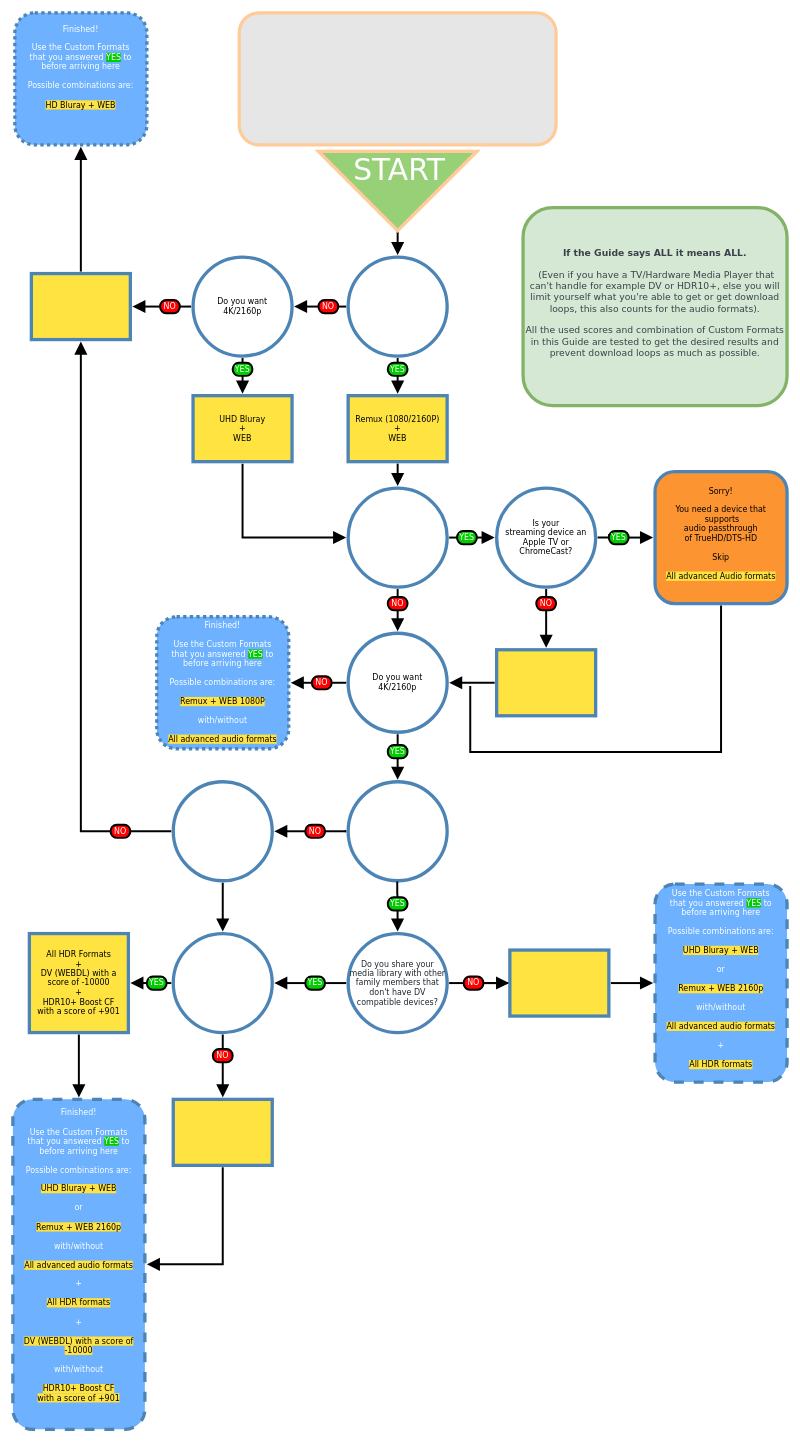
This 800x1443 diagram has some shape labels left out. Each missing label, with the box of its shape:
ALL Advanced Audio Formats: (495, 648, 597, 717)
ALL HDR Formats: (508, 948, 610, 1017)
All HDR Formats + DV (WEBDL) with a score of -10000: (171, 1097, 274, 1167)
Do you have a (Samsung) TV that supports HDR10+: (171, 932, 274, 1034)
Do you have a proper audio setup that supports HD audio?: (346, 486, 448, 588)
Do you have Dolby Vision Compatible devicess?: (346, 780, 448, 882)
Do you have HDR compatible devices: (171, 780, 274, 882)
Do you want untouched video? (Highest Quality: (346, 255, 448, 357)
HD Bluray + WEB: (29, 272, 132, 341)
Radarr Flowchart TRaSH Guides https://trash-guides.info/: (237, 11, 557, 146)
